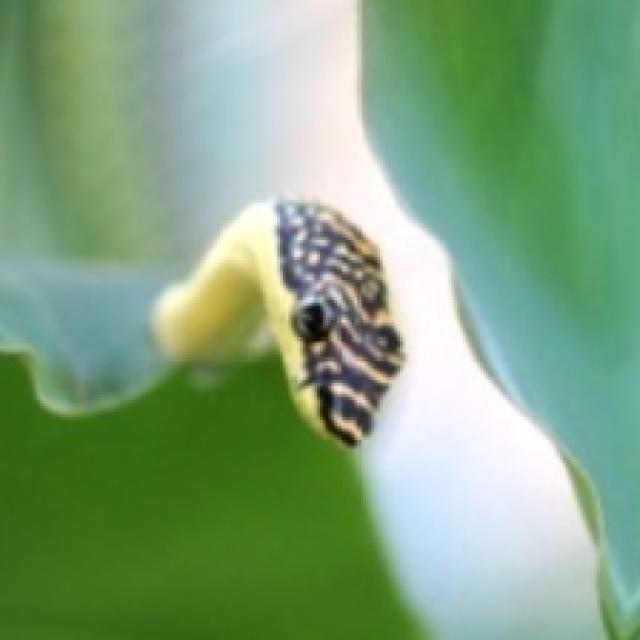paradise tree snake: (151, 200, 400, 443)
